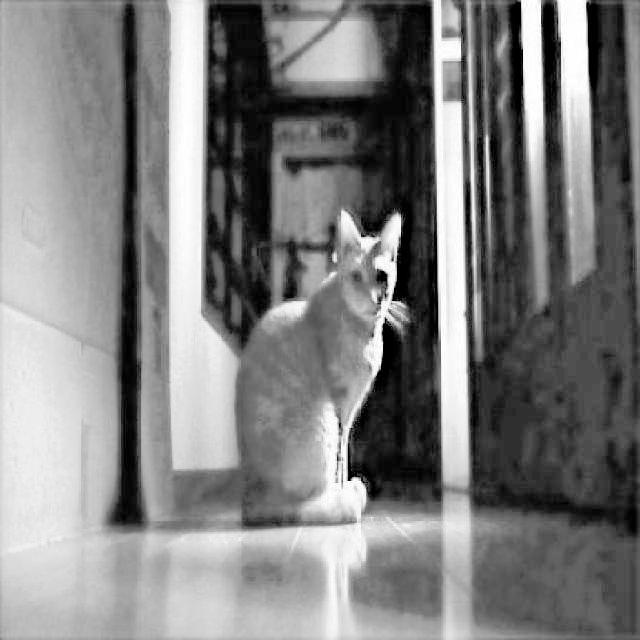Cat: (236, 202, 411, 525)
